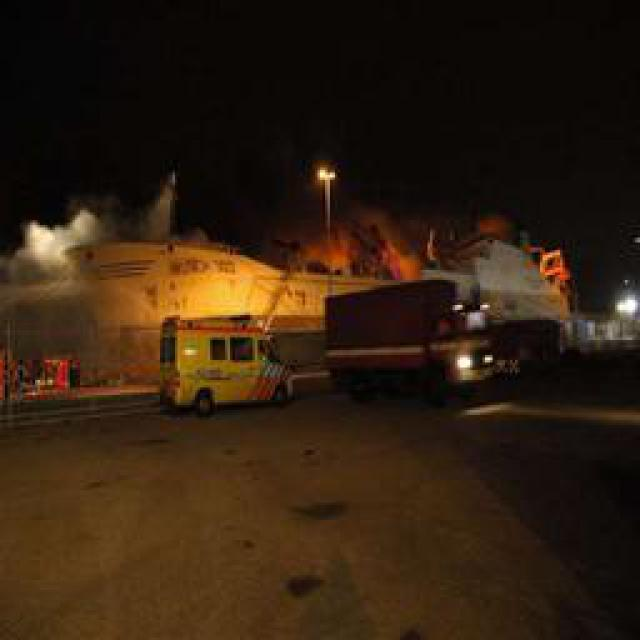Ship: (1, 156, 591, 390)
